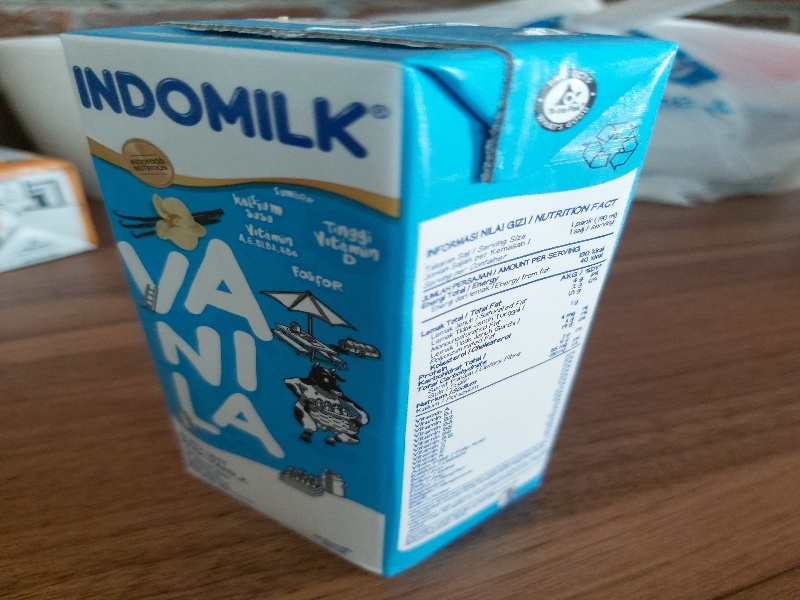vanilla: (57, 16, 678, 575)
